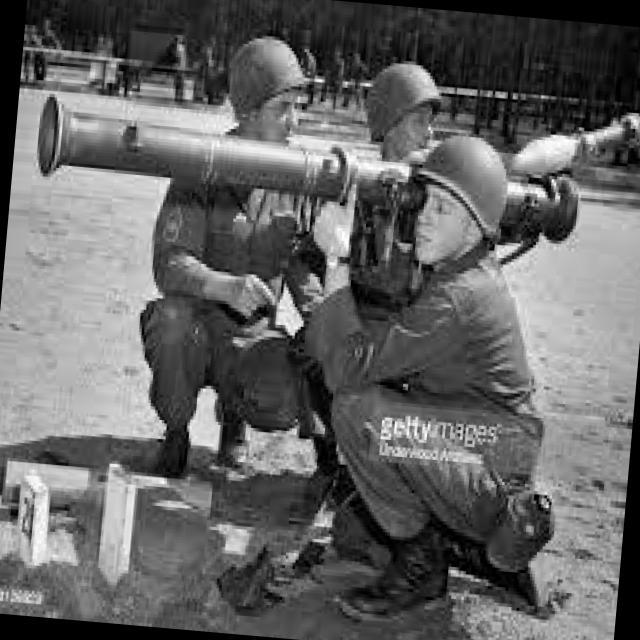rocket: (31, 88, 582, 246)
